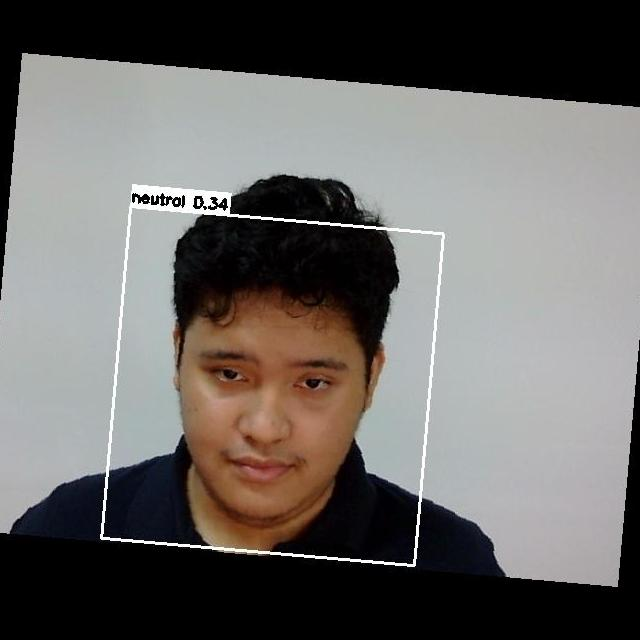Sad: (187, 325, 359, 496)
